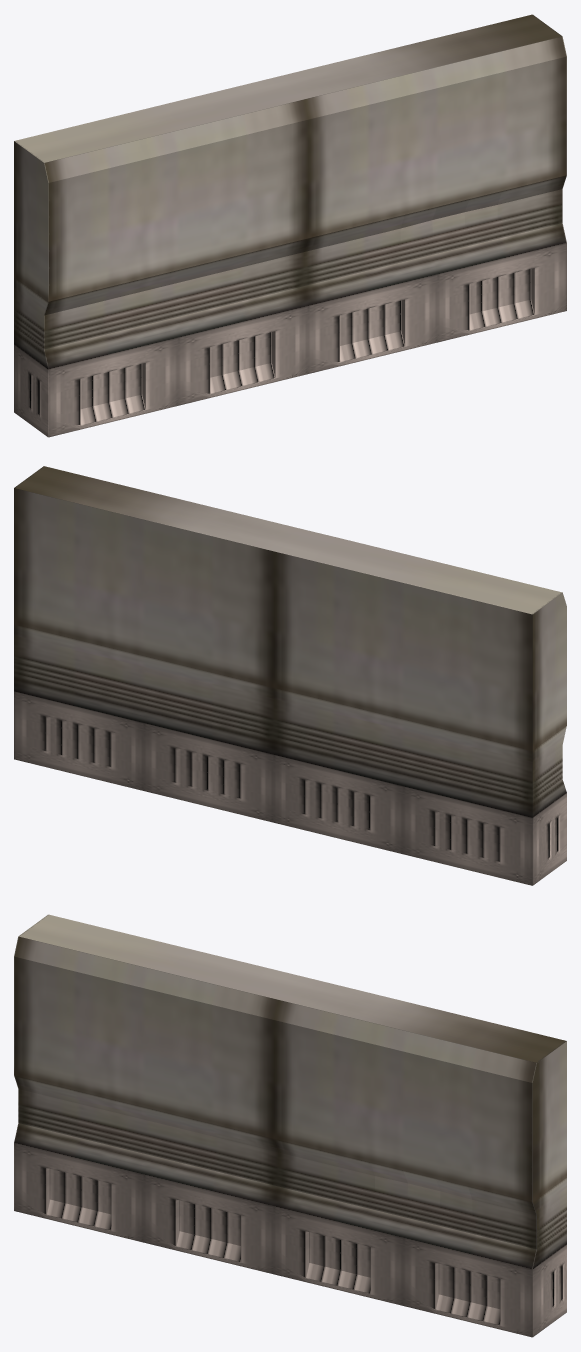
File: office_wall.fbx
3 renders of one model, top to bottom at view 1: azimuth 30°, elevation 25°; view 2: azimuth 150°, elevation 25°; view 3: azimuth 330°, elevation 25°, orthographic.
Parts seen in each view (by area): view 1: Cube; view 2: Cube; view 3: Cube.
Part boxes in pixels (x1=…): Cube: x1=14, y1=14, x2=566, y2=437; Cube: x1=14, y1=466, x2=566, y2=885; Cube: x1=14, y1=914, x2=566, y2=1337.
Size of the model in its own units: 2000 by 1000 by 229.
1 material, 1 textured.
